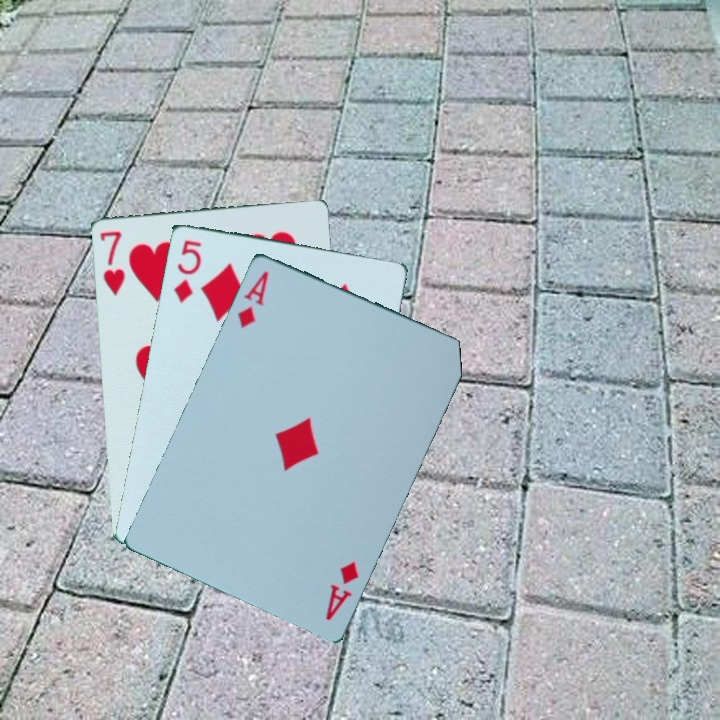5d: (170, 236, 204, 305)
7h: (96, 227, 127, 299)
Ad: (321, 557, 362, 623), (233, 266, 272, 332)
